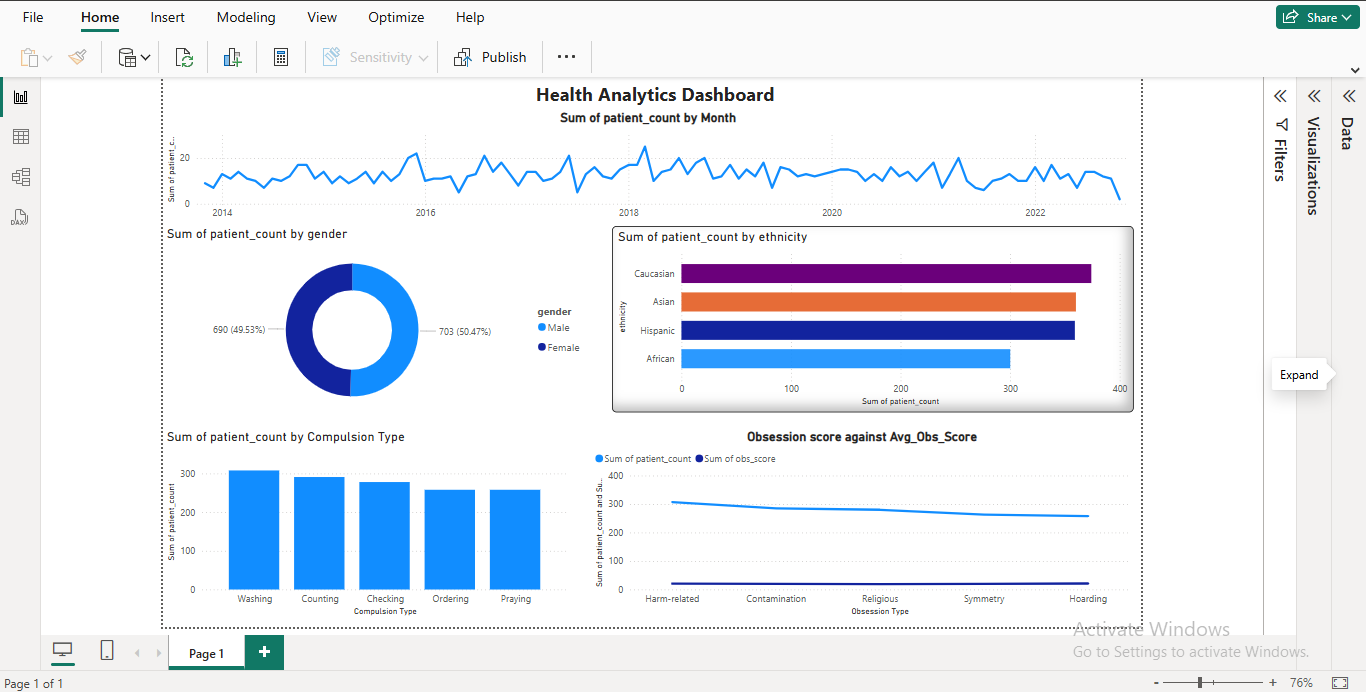

This screenshot's page, from the dashboard's own definition file:
{"tool":"powerbi","page":{"name":"Page 1","canvas":[1280,720],"ordinal":0},"visuals":[{"type":"textbox","box":[9.6,0,1270.4,42.7],"z":0},{"type":"lineChart","title":"Sum of patient_count by Month","fields":{"Y":["Sum(diagnosis.patient_count)"],"Category":["diagnosis.month.Variation.Date Hierarchy.Year","diagnosis.month.Variation.Date Hierarchy.Month","diagnosis.month.Variation.Date Hierarchy.Day"]},"box":[0,42.7,1270.4,152.8],"z":1000},{"type":"donutChart","fields":{"Category":["gender.gender"],"Y":["Sum(gender.patient_count)"]},"box":[0,195.4,560.2,253.2],"z":1001},{"type":"clusteredBarChart","fields":{"Category":["ethnicity.ethnicity"],"Y":["Sum(ethnicity.patient_count)"]},"box":[587.7,195.4,682.7,243.6],"z":1002},{"type":"columnChart","fields":{"Category":["compulsion_type.Compulsion Type"],"Y":["Sum(compulsion_type.patient_count)"]},"box":[0,461.1,535.4,249.1],"z":1003},{"type":"lineChart","title":"Obsession score against Avg_Obs_Score","fields":{"Category":["obsession_type.Obsession Type"],"Y":["Sum(obsession_type.patient_count)","Sum(obsession_type.obs_score)"]},"box":[560.2,461.1,710.2,249.1],"z":1004}]}

Visuals, with their boxes on the page's 1280x720 design canvas (x1, y1, x2, y2). These are canvas units, not pixel positions in the 1366x692 screenshot, which may show the page scaled, cropped or inside an application window:
textbox: detection(10, 0, 1280, 43)
"Sum of patient_count by Month" lineChart: detection(0, 43, 1270, 196)
donutChart - gender.gender x Sum(gender.patient_count): detection(0, 195, 560, 449)
clusteredBarChart - ethnicity.ethnicity x Sum(ethnicity.patient_count): detection(588, 195, 1270, 439)
columnChart - compulsion_type.Compulsion Type x Sum(compulsion_type.patient_count): detection(0, 461, 535, 710)
"Obsession score against Avg_Obs_Score" lineChart: detection(560, 461, 1270, 710)
